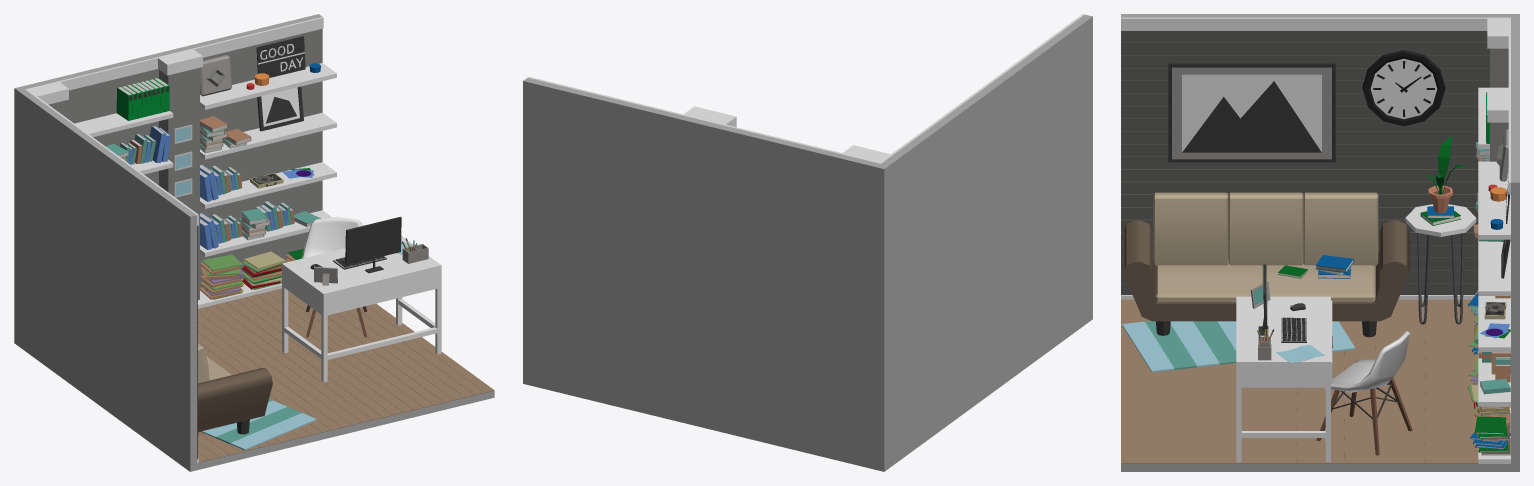
The model's file is officeroom.glb.
The picture shows the model from 3 angles, left to right: view 1: azimuth 30°, elevation 25°; view 2: azimuth 150°, elevation 25°; view 3: azimuth 270°, elevation 25°; orthographic projection. The views are drawn at different scales.
Visible parts, largest first — view 1: Office2_base, Office2_parquet1, Office2_table, Office2_shelves, Office2_sofa, Office2_carpet, Office2_monitor1, Office2_Books5, Office2_chair, Office2_magazines1, Office2_Photoframe_4, Office2_decoration1 (+9 smaller); view 2: Office2_base; view 3: Office2_parquet2, Office2_parquet1, Office2_sofa, Office2_base, Office2_picture, Office2_table, Office2_shelves, Office2_carpet, Office2_clock_1, Office2_chair, Office2_little_table, Office2_magazines3 (+8 smaller).
Part boxes in pixels (x1,y1,x2,y2): Office2_base: [14, 14, 494, 471]; Office2_parquet1: [198, 288, 494, 462]; Office2_table: [282, 236, 441, 382]; Office2_shelves: [74, 63, 336, 308]; Office2_sofa: [197, 343, 272, 435]; Office2_carpet: [200, 399, 316, 450]; Office2_monitor1: [345, 216, 401, 273]; Office2_Books5: [116, 77, 169, 120]; Office2_chair: [302, 216, 367, 337]; Office2_magazines1: [200, 254, 244, 299]; Office2_Photoframe_4: [257, 86, 303, 131]; Office2_decoration1: [256, 36, 305, 77]; Office2_base: [523, 14, 1092, 471]; Office2_parquet2: [1121, 31, 1489, 294]; Office2_parquet1: [1121, 299, 1478, 463]; Office2_sofa: [1123, 192, 1409, 337]; Office2_base: [1121, 14, 1519, 471]; Office2_picture: [1168, 63, 1335, 162]; Office2_table: [1236, 296, 1332, 462]; Office2_shelves: [1478, 87, 1510, 463]; Office2_carpet: [1122, 321, 1355, 372]; Office2_clock_1: [1362, 50, 1445, 126]; Office2_chair: [1316, 331, 1412, 455]; Office2_little_table: [1405, 204, 1476, 324]; Office2_magazines3: [1470, 416, 1510, 455].
Size of the model in its own units: 5.03 by 4.01 by 5.
Materials: 1 (1 with a texture image).
